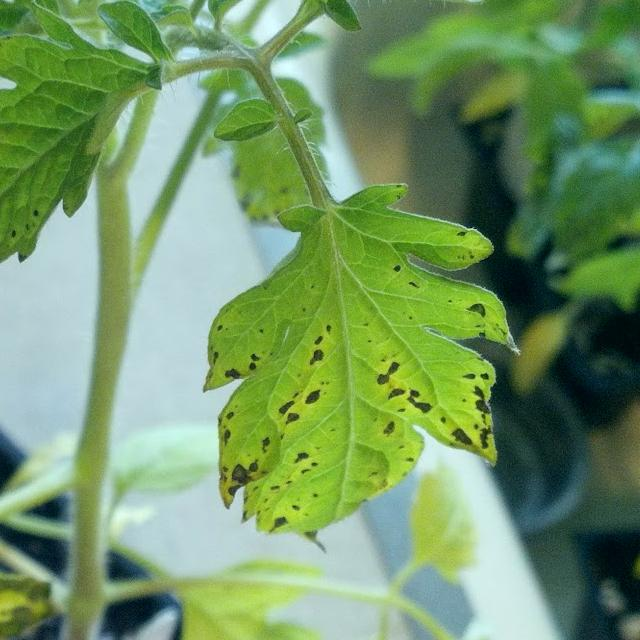Tomato Septoria leaf spot: (192, 209, 514, 587), (0, 18, 178, 279), (0, 534, 71, 640)
